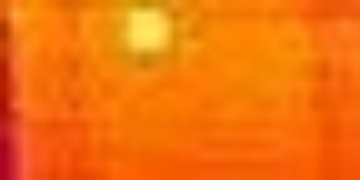Hotspot: (120, 5, 179, 61)
